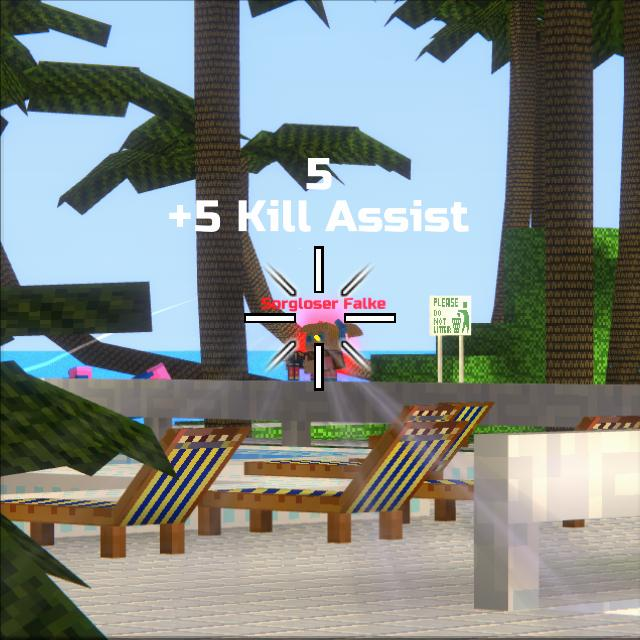Enemy: (294, 322, 349, 378)
